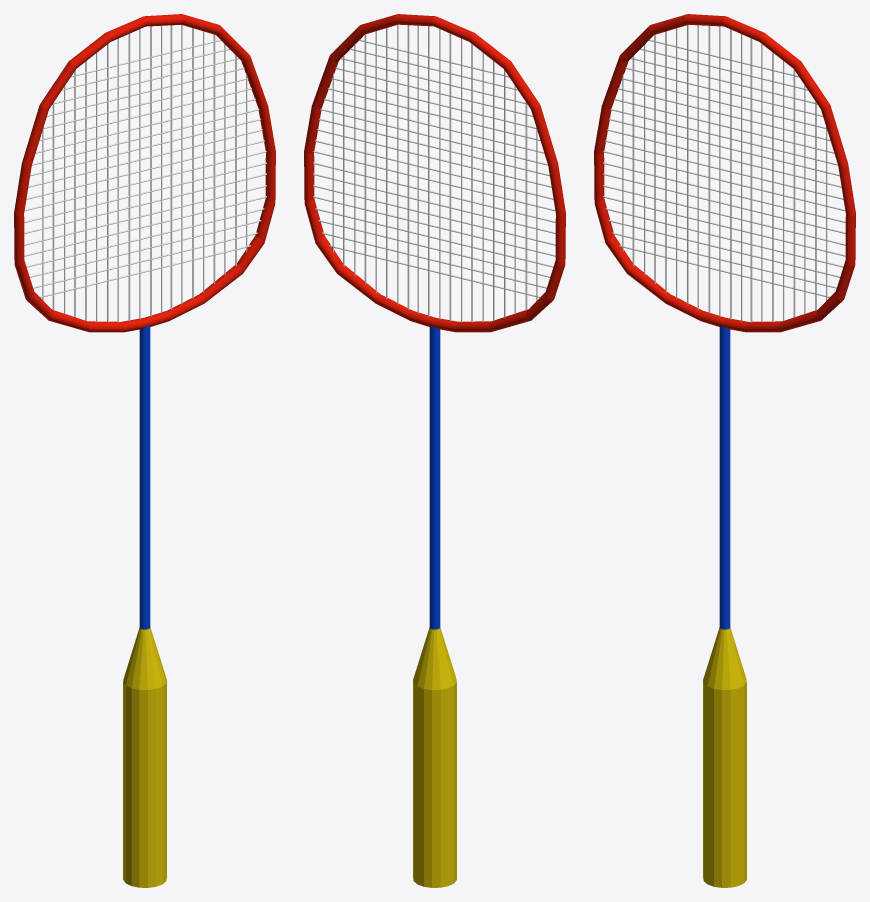
File: newRacket.fbx
3 renders of one model, left to right at view 1: azimuth 30°, elevation 25°; view 2: azimuth 150°, elevation 25°; view 3: azimuth 330°, elevation 25°, orthographic.
Visible parts, largest first — view 1: Obj_Racket_Cylinder, 円柱; view 2: Obj_Racket_Cylinder, 円柱; view 3: Obj_Racket_Cylinder, 円柱.
Part boxes in pixels (left/top/right/bottom): Obj_Racket_Cylinder: left=14, top=14, right=275, bottom=887; 円柱: left=24, top=25, right=266, bottom=322; Obj_Racket_Cylinder: left=304, top=14, right=565, bottom=887; 円柱: left=313, top=24, right=555, bottom=322; Obj_Racket_Cylinder: left=594, top=14, right=855, bottom=887; 円柱: left=603, top=25, right=845, bottom=322.
Bounding box in the file's own units: 21.59 × 3.17 × 68.27.
